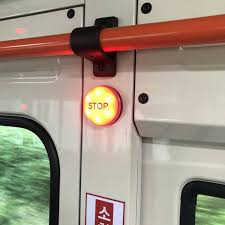bell: (82, 82, 123, 128)
